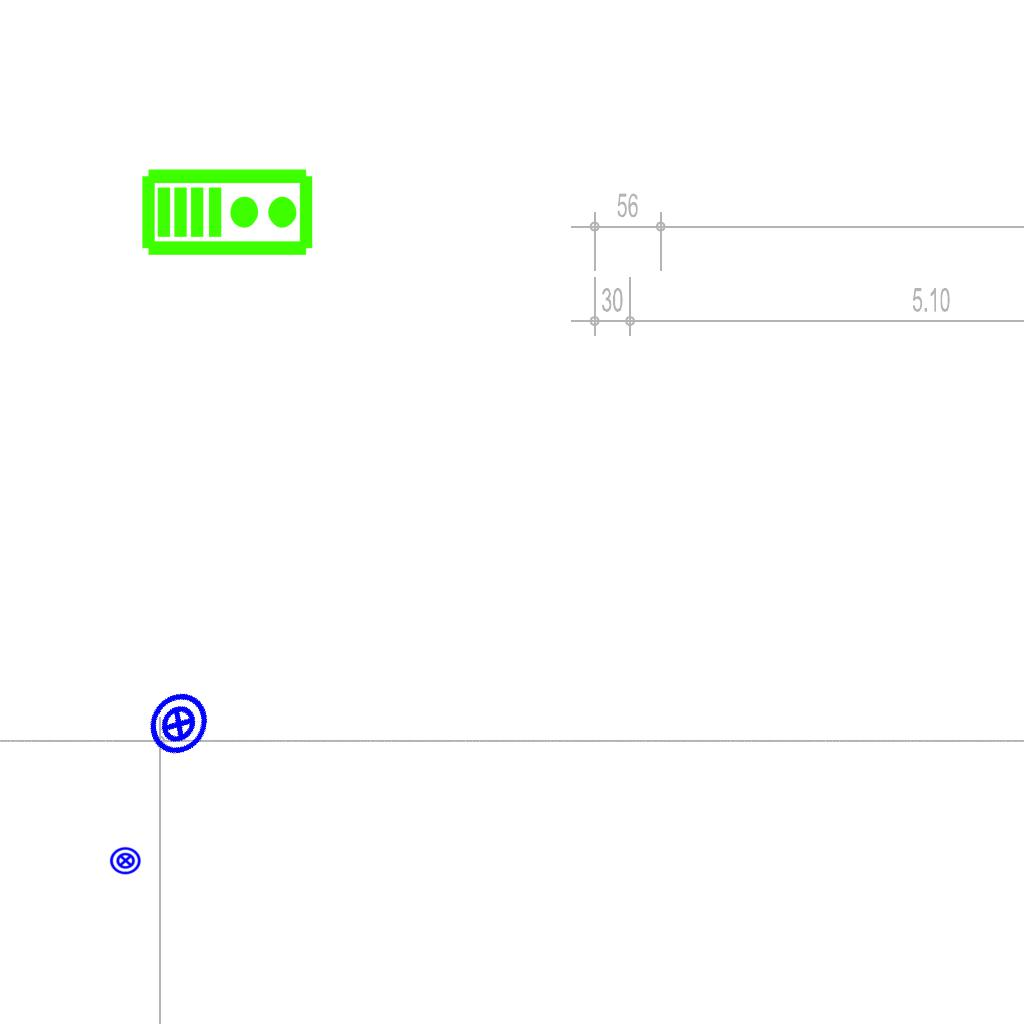Gegensprechanlage_mit_Video: (140, 163, 316, 258)
Taster_beleuchtet: (133, 678, 225, 770), (109, 844, 142, 877)
